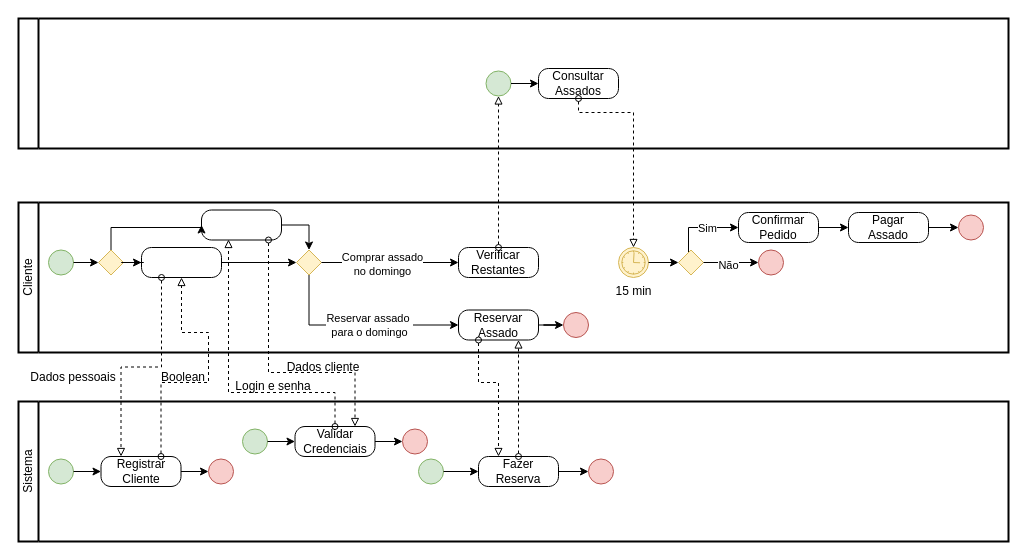
Some shapes in this 1026 by 559 pixel diagram are drawn without their labels. Each missing label, with the box of its shape:
Funcionário: (17, 17, 1009, 149)
Realizar cadastro: (140, 246, 222, 278)
Realizar login: (200, 209, 282, 240)
Sobrou assado?: (678, 249, 704, 275)
Tem conta?: (98, 249, 124, 275)
